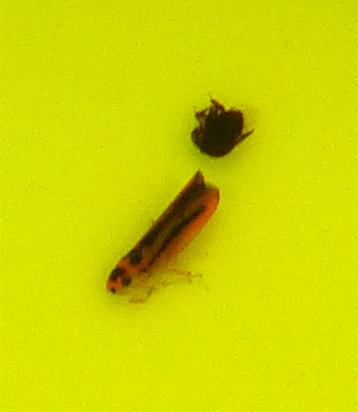Hemiptera: (100, 165, 226, 312)
Hymenoptera: (182, 100, 258, 166)
